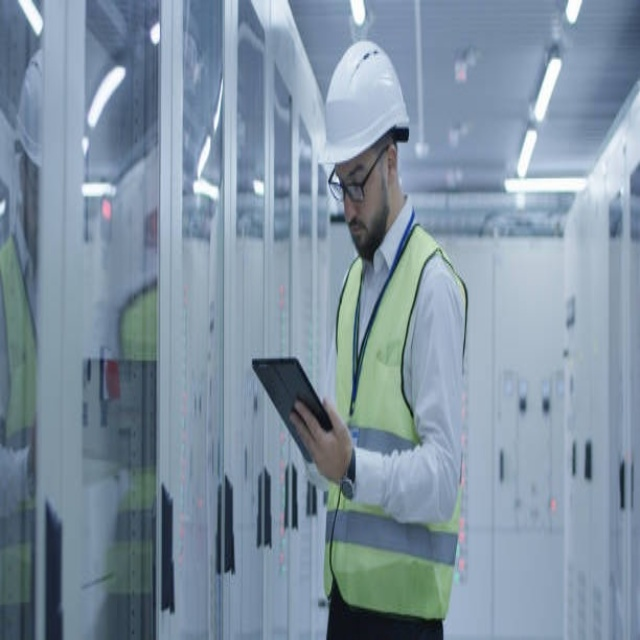Gafas: (328, 142, 392, 203)
Sin_guantes: (292, 395, 350, 486)
Sin_mascara: (345, 214, 375, 262)
